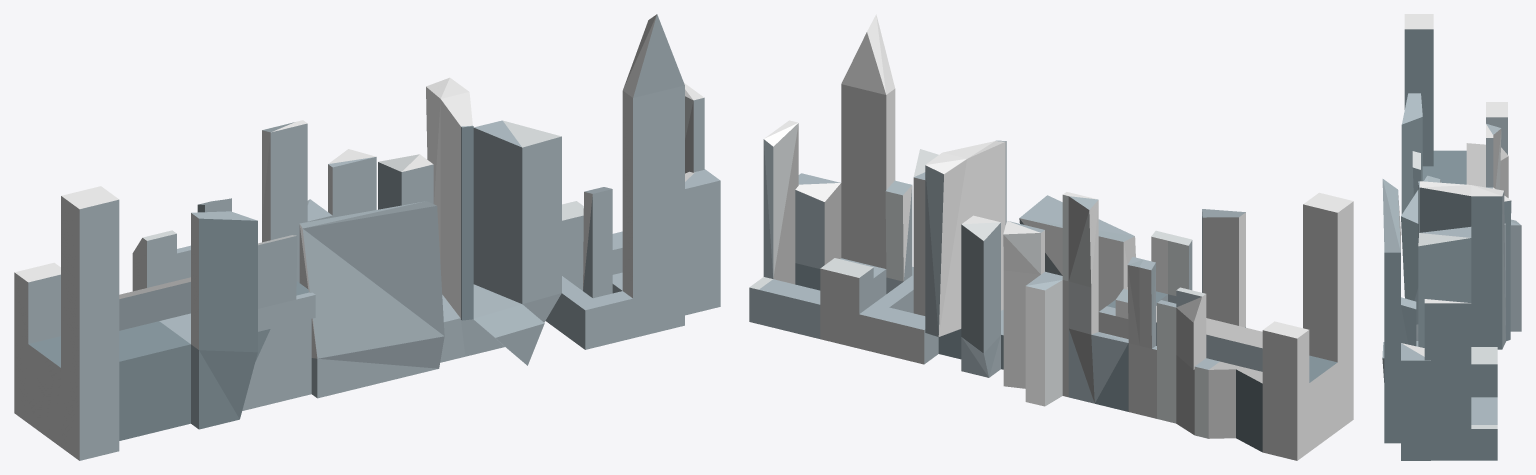
File: 2nd City.glb
3 views of the same model, side by side, from view 1: azimuth 30°, elevation 25°; view 2: azimuth 150°, elevation 25°; view 3: azimuth 270°, elevation 25° (orthographic). The views are drawn at different scales.
Visible parts, largest first — view 1: group303670317; view 2: group303670317; view 3: group303670317.
Boxes of the visible parts, left/top/right/bottom form: group303670317: left=14, top=14, right=720, bottom=460; group303670317: left=749, top=14, right=1353, bottom=460; group303670317: left=1382, top=14, right=1521, bottom=460.
Size of the model in its own units: 6.4 by 3.09 by 1.52.
